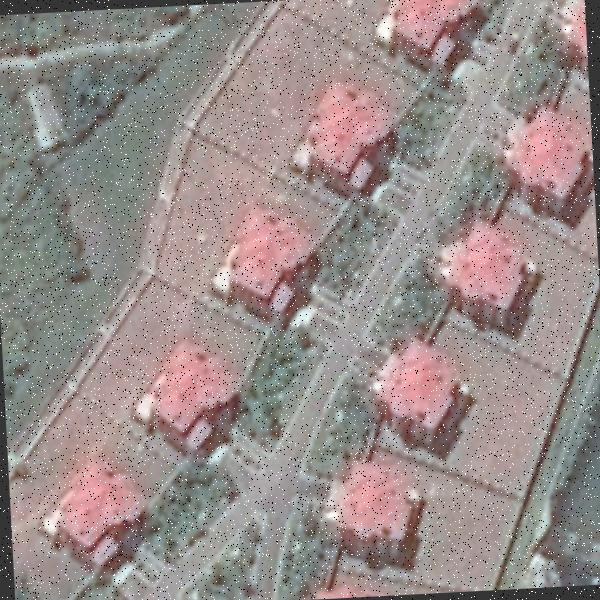Buildings: (326, 463, 426, 568), (445, 229, 547, 325), (383, 350, 469, 450), (507, 107, 594, 205), (150, 352, 243, 436), (304, 89, 391, 176), (60, 470, 136, 568), (226, 217, 316, 297), (380, 0, 475, 57), (27, 82, 62, 144), (558, 14, 588, 65)
